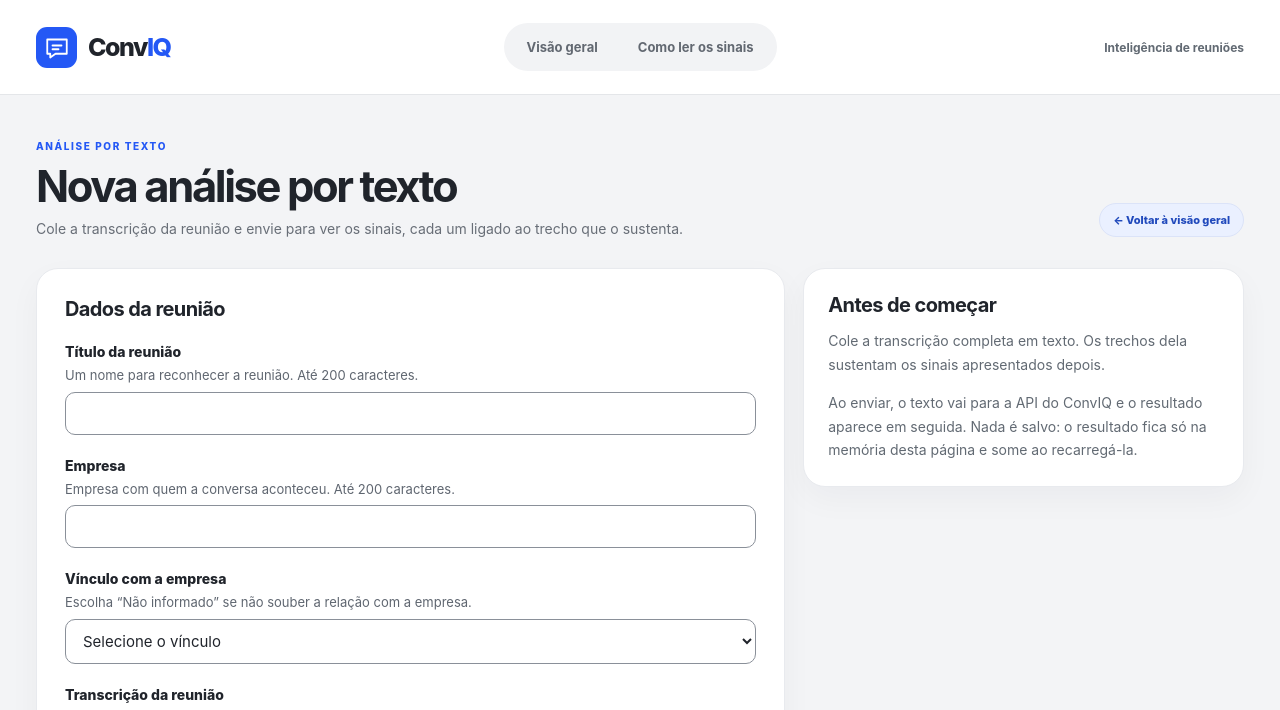
Test: falhas e nova tentativa › falha de rede: mensagem de rede e nova tentativa com os dados correntes até o sucesso
Type "  Renovação Acme  " into the field labelled "Título da reunião" at (411, 413), box top-left (65, 392), bottom-right (756, 435)
Type "Acme" into the field labelled "Empresa" at (411, 527), box top-left (65, 505), bottom-right (756, 548)
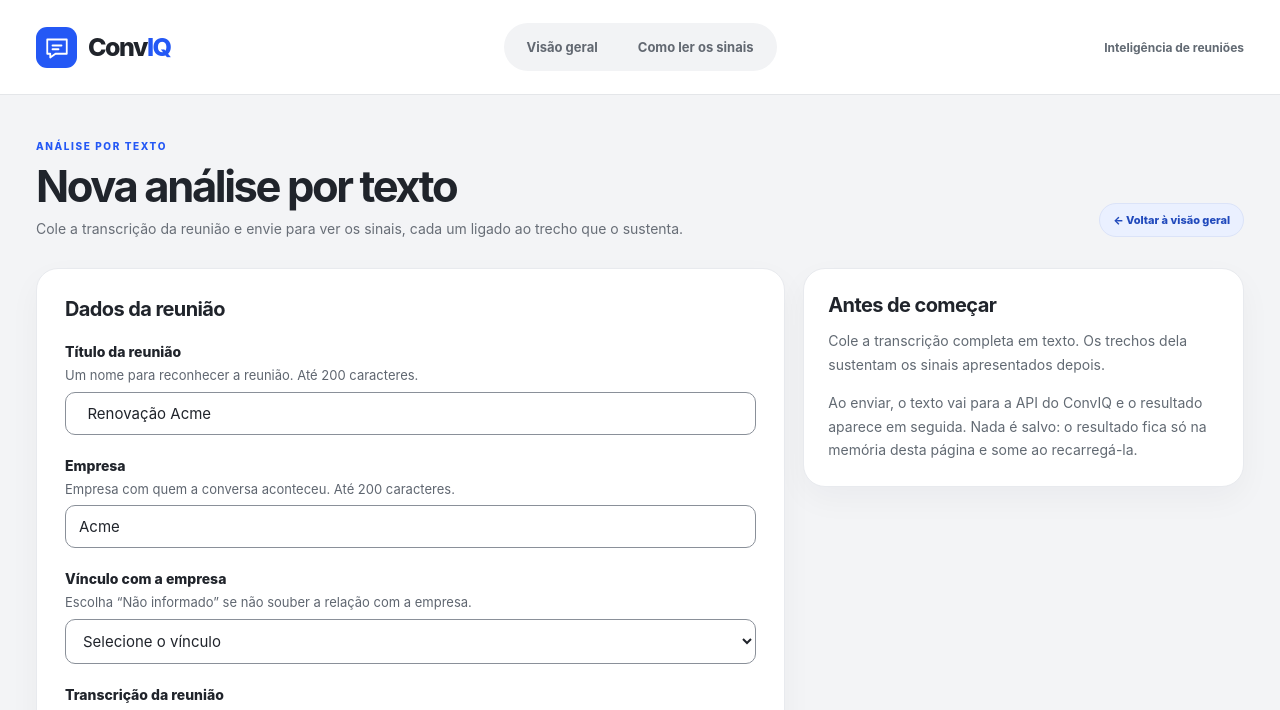
Select "Cliente" in the dropdown labelled "Vínculo com a empresa" at (411, 641), box top-left (65, 619), bottom-right (756, 664)
(page scrolled)
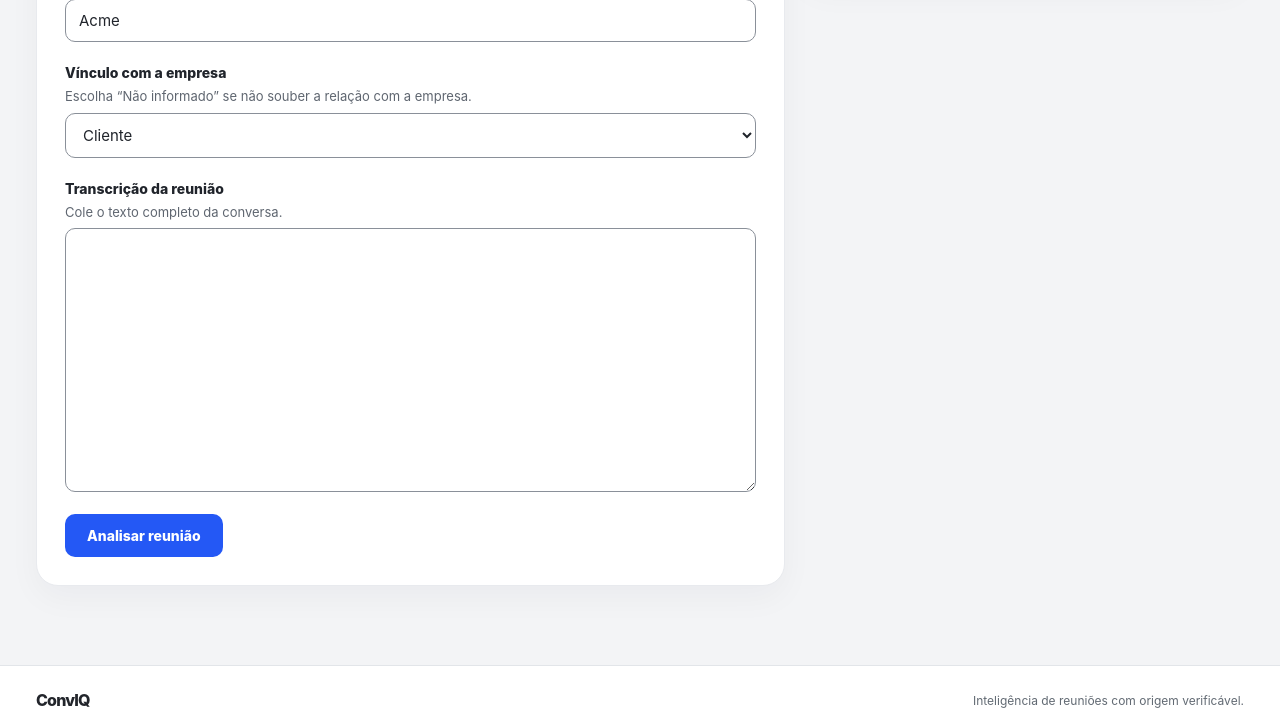
Type " Estamos insatisfeitos com o suporte. " into the text box labelled "Transcrição da reunião" at (411, 360), box top-left (65, 228), bottom-right (756, 492)
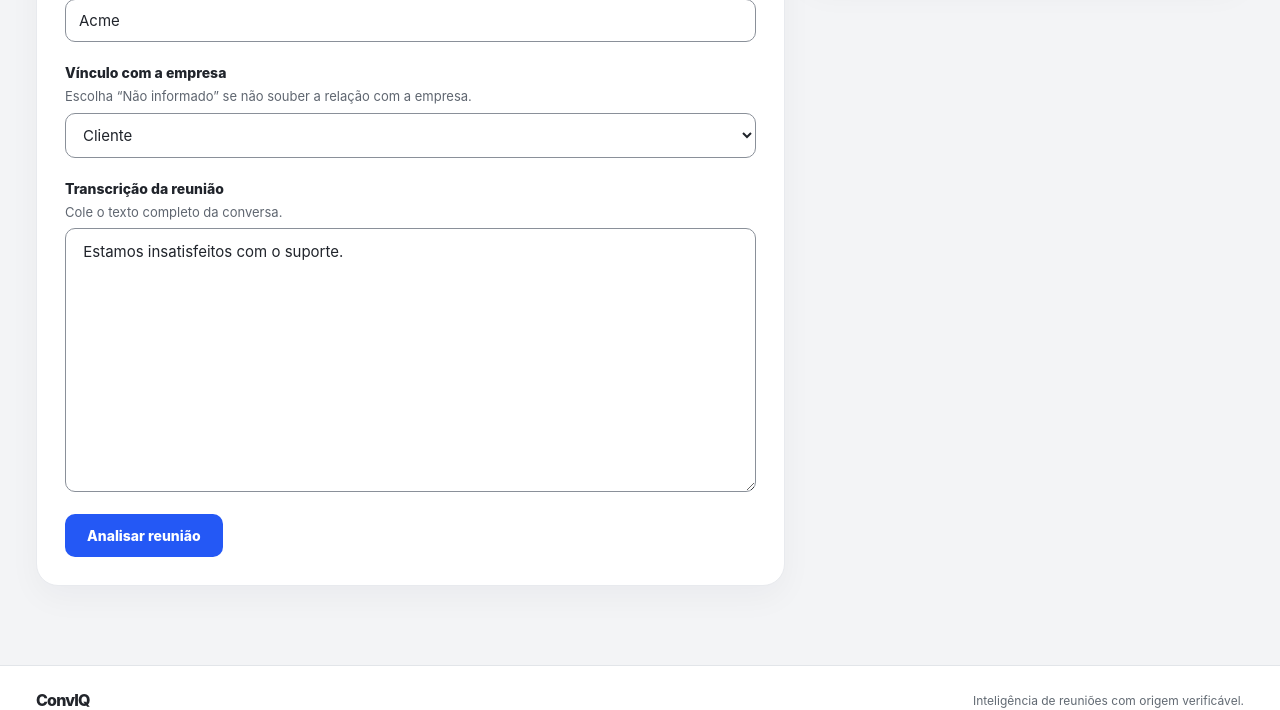
Click the button "Analisar reunião" at (144, 536), box top-left (65, 514), bottom-right (223, 557)
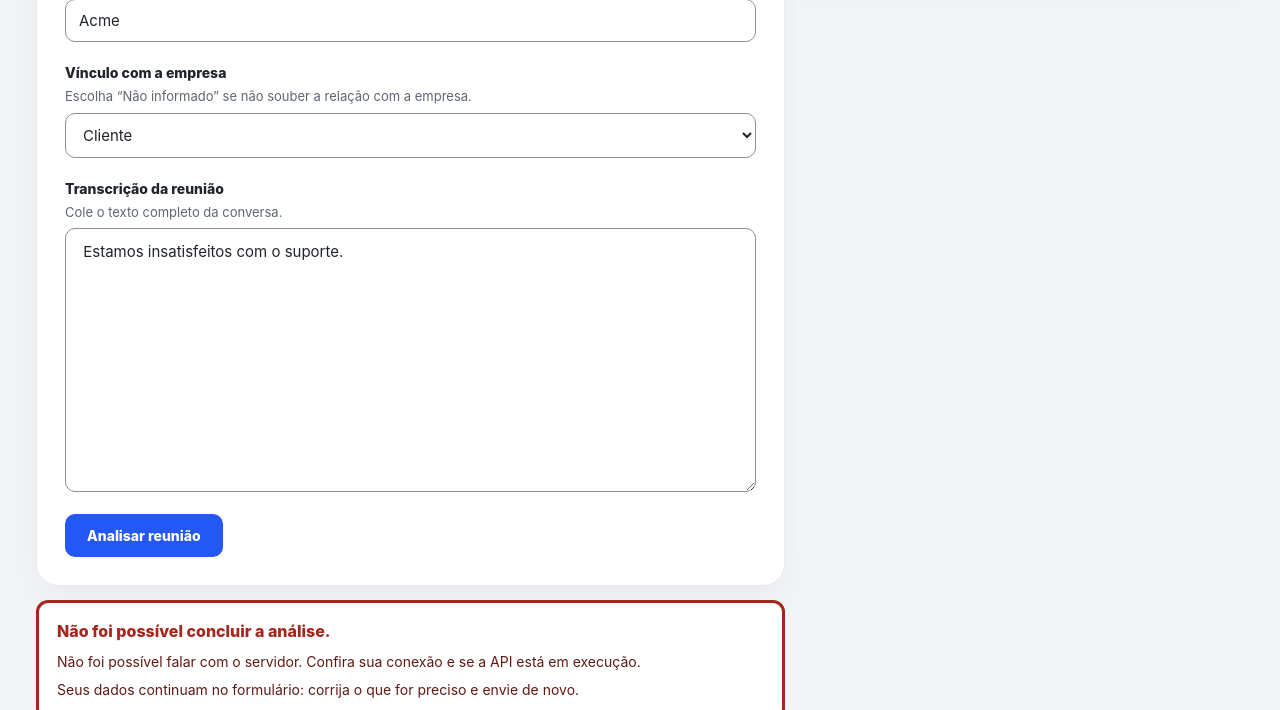
Result: the message shows "Não foi possível falar com o servidor" at top-left (57, 653), bottom-right (641, 670)
Replace the text in the field labelled "Empresa" with "Acme Brasil" at (411, 21), box top-left (65, 0), bottom-right (756, 42)
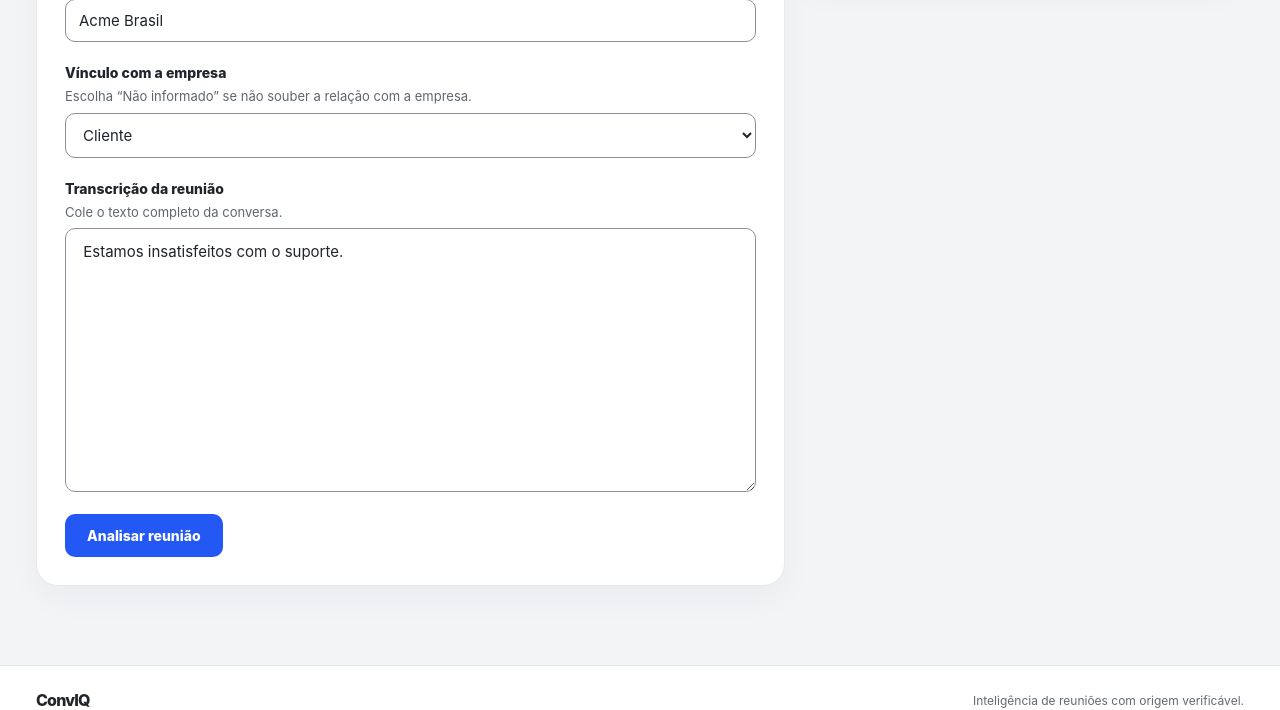
Click the button "Analisar reunião" at (144, 536), box top-left (65, 514), bottom-right (223, 557)
(page scrolled)
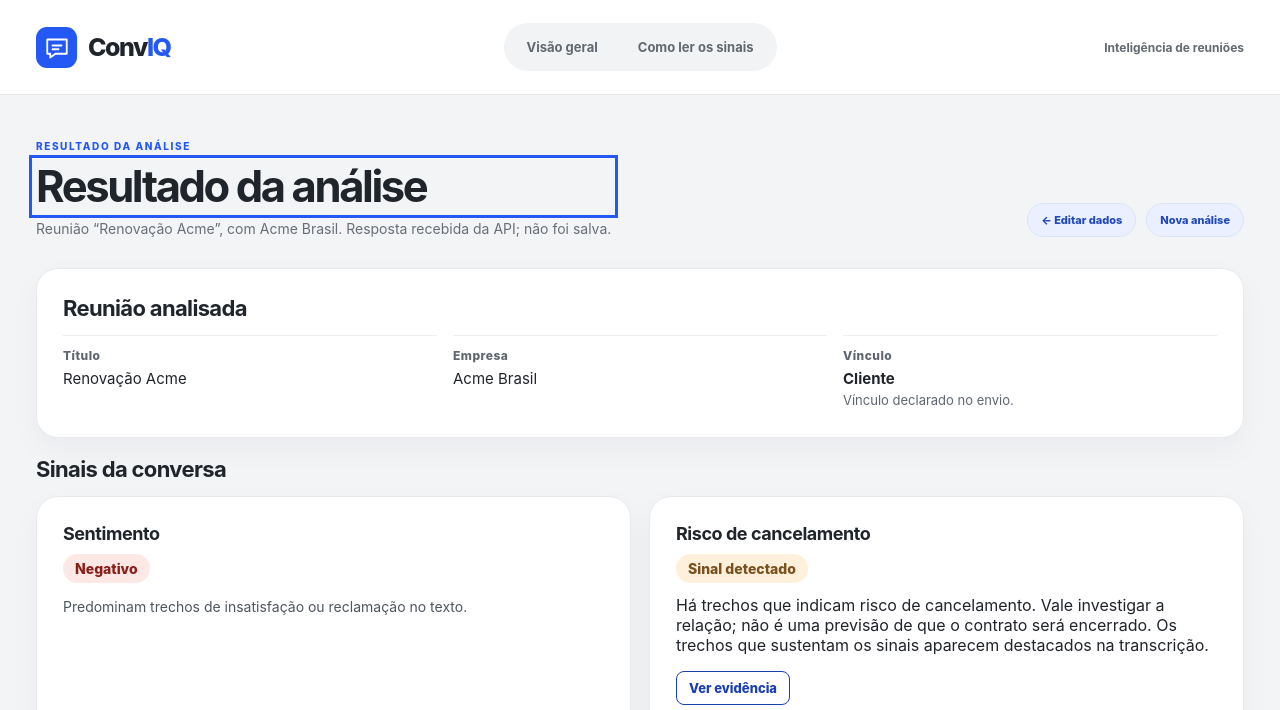
Result: the heading "Resultado da análise" is shown at top-left (36, 160), bottom-right (426, 212)
Result: the text "Acme Brasil" is shown at top-left (453, 369), bottom-right (537, 388)
